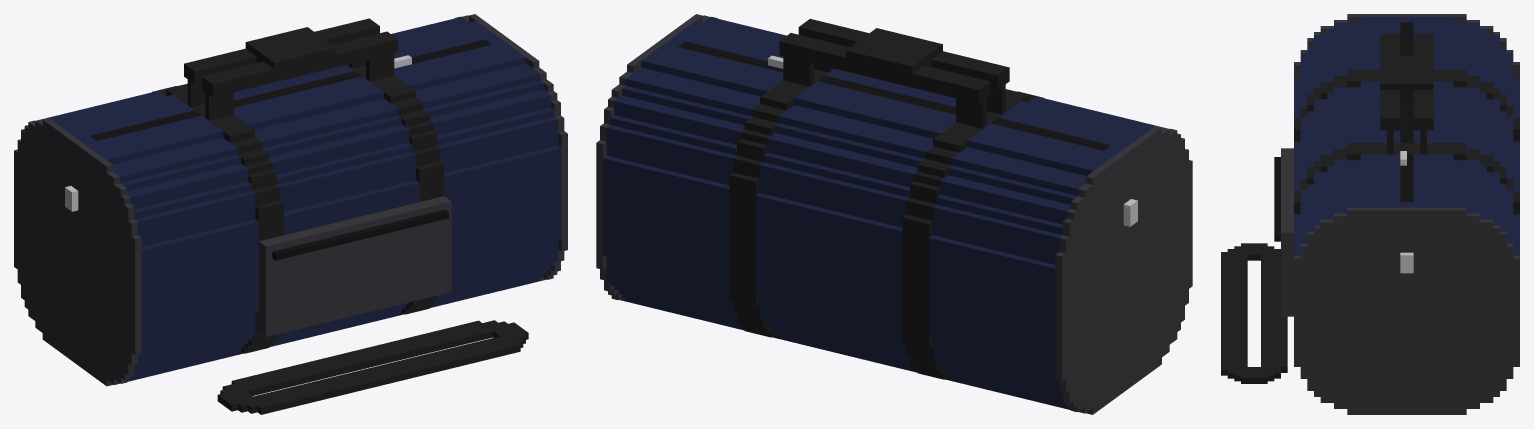
The model's file is duffelbag_l_poly.glb.
3 renders of one model, left to right at view 1: azimuth 30°, elevation 25°; view 2: azimuth 150°, elevation 25°; view 3: azimuth 270°, elevation 25°, orthographic. The views are drawn at different scales.
Visible parts, largest first — view 1: duffelbag_l_poly:compound; view 2: duffelbag_l_poly:compound; view 3: duffelbag_l_poly:compound.
Boxes of the visible parts, x1,y1,x2,y2 form: duffelbag_l_poly:compound: (14,14,567,414); duffelbag_l_poly:compound: (596,14,1192,414); duffelbag_l_poly:compound: (1221,14,1519,414).
Bounding box in the file's own units: 0.72 × 0.41 × 0.45.
